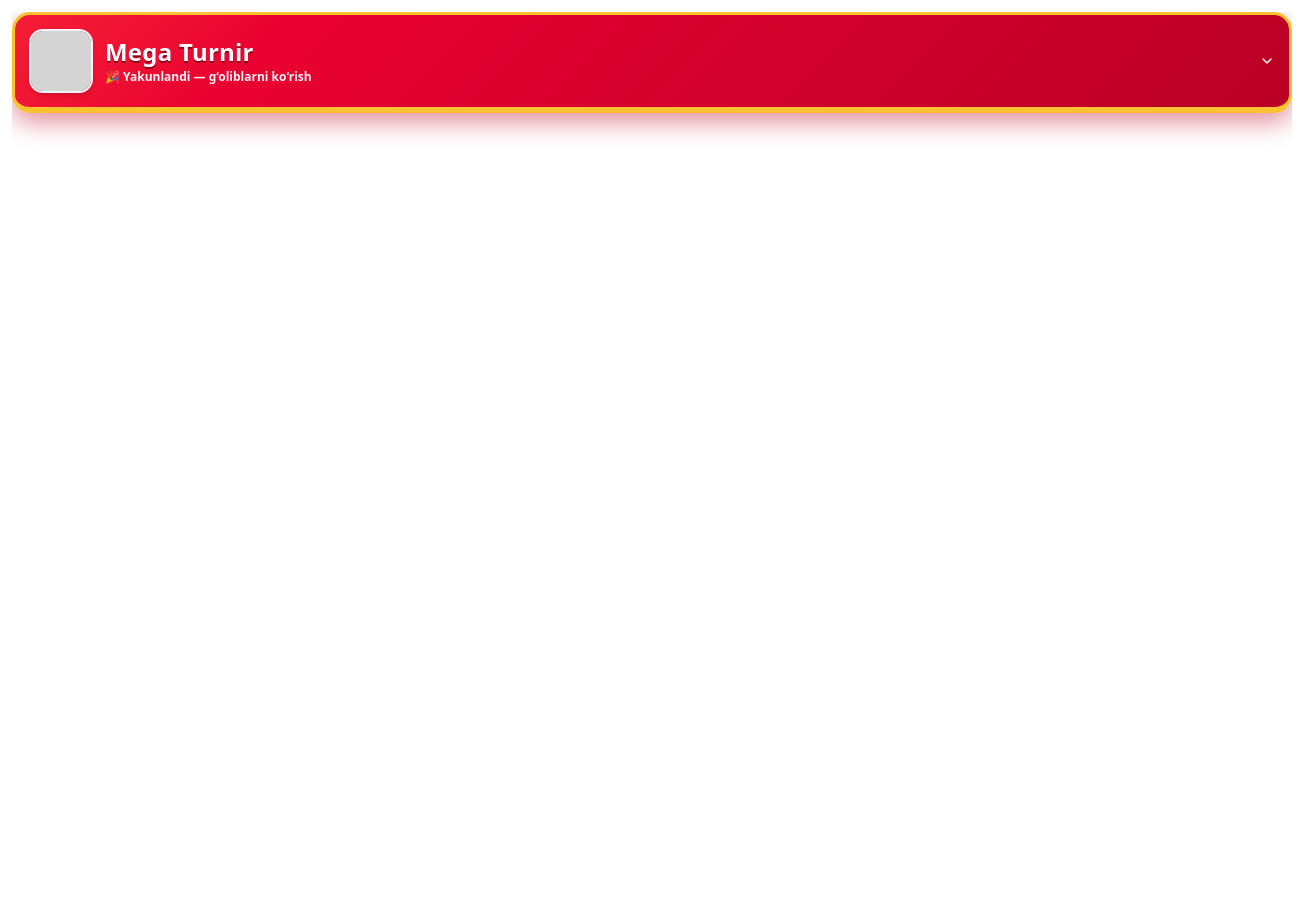
it: Mega Turnir completed section › stays collapsed until tapped, then shows the winners, fair draw and distributed prizes
Click the button "Mega Turnir 🎉 Yakunlandi — g‘oliblarni ko‘rish" at [61, 61], box left=12, top=12, right=1292, bottom=113
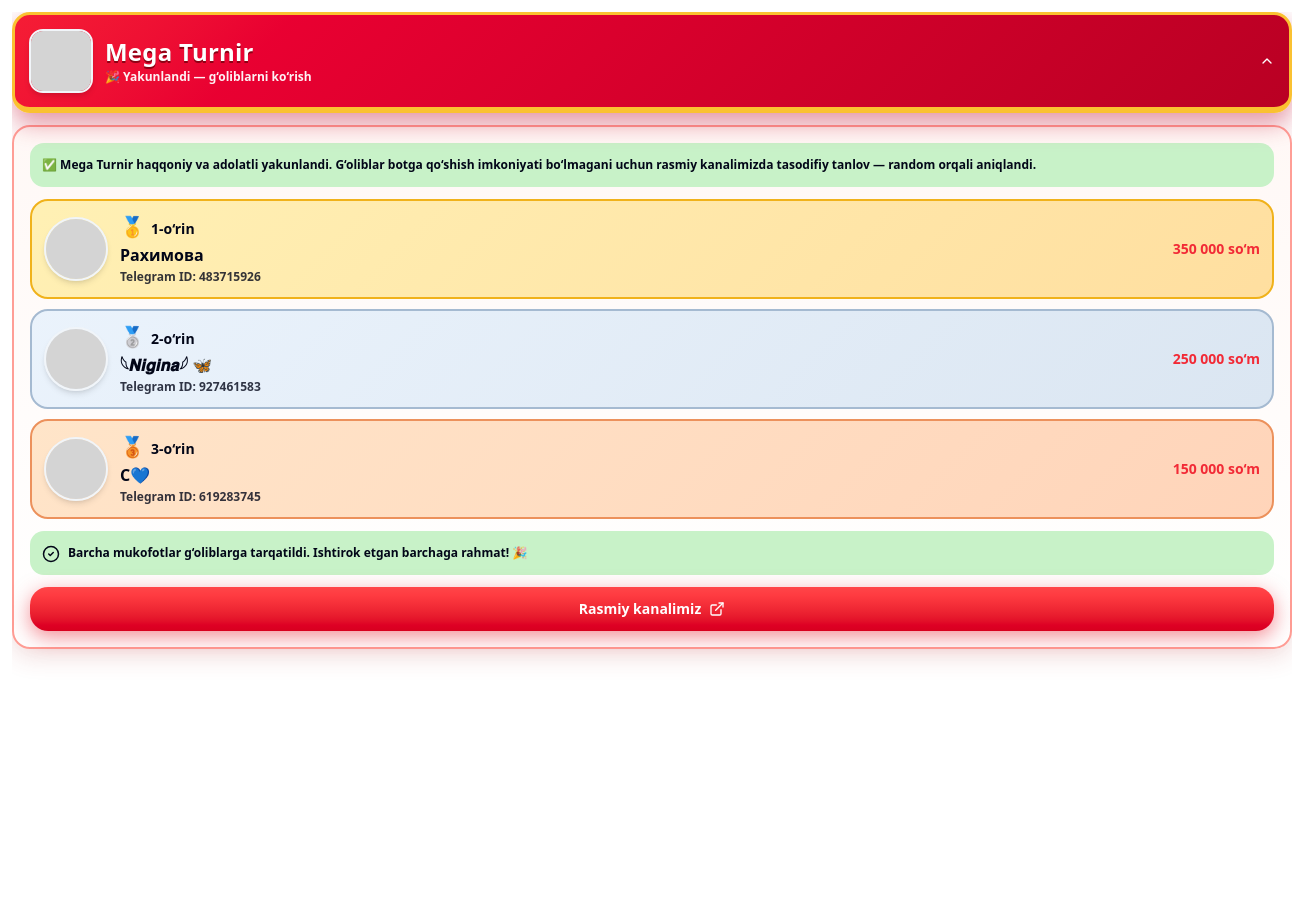
Expected: the button "Mega Turnir 🎉 Yakunlandi — g‘oliblarni ko‘rish" is expanded, left=12, top=12, right=1292, bottom=113
Expected: the element with id "mega-turnir-details" shows "haqqoniy va adolatli yakunlandi", left=42, top=156, right=1036, bottom=173
Expected: the element with id "mega-turnir-details" shows "rasmiy kanalimizda tasodifiy tanlov — random orqali aniqlandi", left=42, top=156, right=1036, bottom=173
